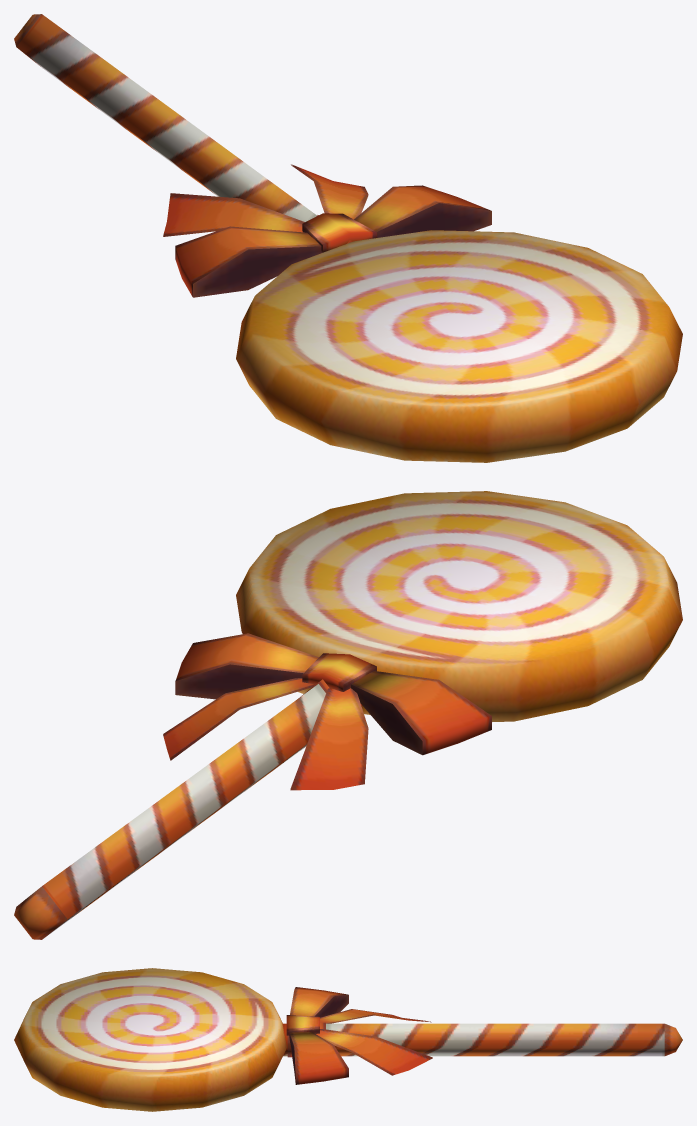
The model's file is rod0044.fbx.
3 views of the same model, one above another, from view 1: azimuth 30°, elevation 25°; view 2: azimuth 150°, elevation 25°; view 3: azimuth 270°, elevation 25° (orthographic). The views are drawn at different scales.
Parts seen in each view (by area): view 1: rod0044; view 2: rod0044; view 3: rod0044.
Boxes of the visible parts, box(x1,y1,x2,y2) form: rod0044: box(14, 14, 682, 462); rod0044: box(14, 491, 682, 939); rod0044: box(14, 968, 682, 1111).
Size of the model in its own units: 0.33 by 0.0516 by 0.7981.
